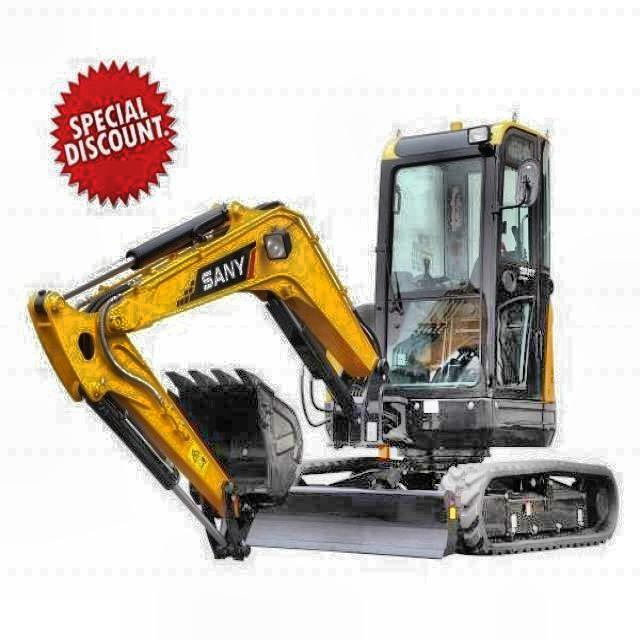excavator: (28, 110, 621, 568)
